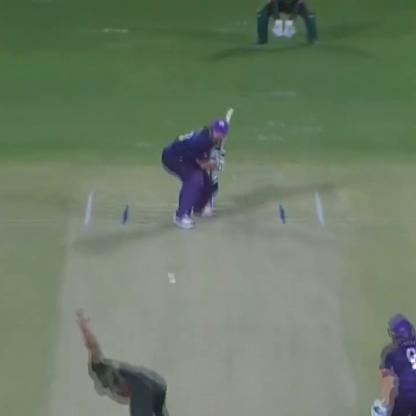ball: (163, 274, 181, 287), (163, 270, 178, 280)
bat: (219, 105, 240, 144)
pitch: (50, 180, 356, 416)
